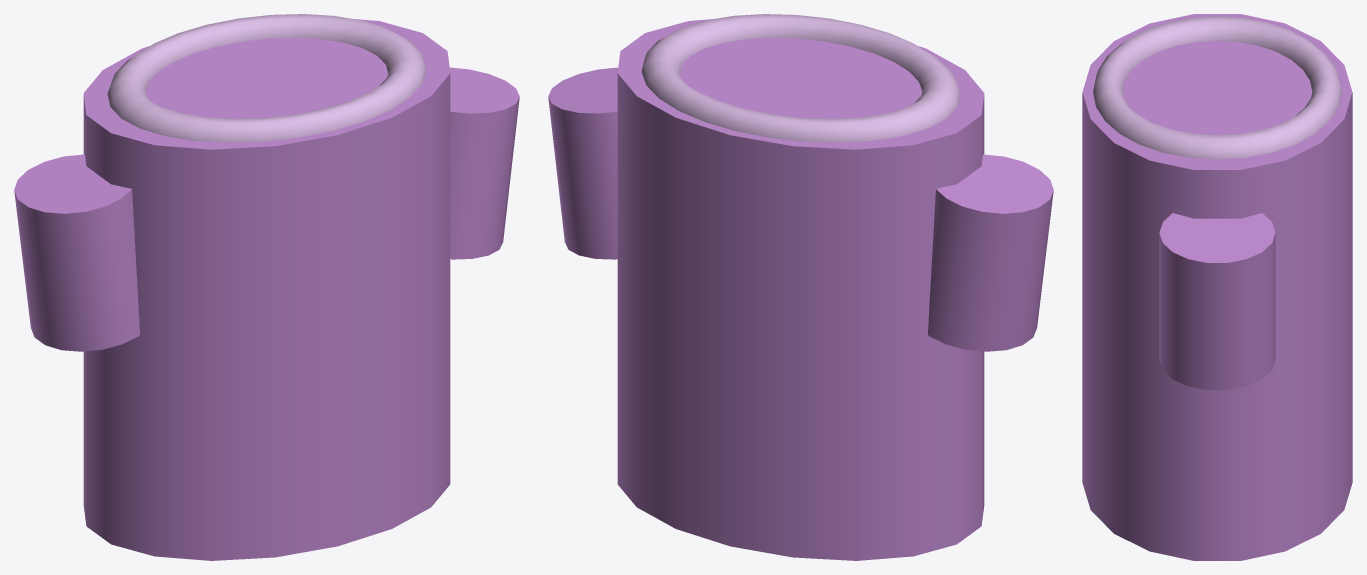
The model's file is VM-DAM-8813.glb.
3 views of the same model, side by side, from view 1: azimuth 30°, elevation 25°; view 2: azimuth 150°, elevation 25°; view 3: azimuth 270°, elevation 25° (orthographic). The views are drawn at different scales.
Parts seen in each view (by area): view 1: Blazer Cropped Smoking Noir; view 2: Blazer Cropped Smoking Noir; view 3: Blazer Cropped Smoking Noir.
Part boxes in pixels (bbox=[...]): Blazer Cropped Smoking Noir: bbox=[14, 14, 519, 560]; Blazer Cropped Smoking Noir: bbox=[548, 14, 1053, 560]; Blazer Cropped Smoking Noir: bbox=[1082, 14, 1352, 560].
Size of the model in its own units: 0.5365 by 0.4474 by 0.2707.
